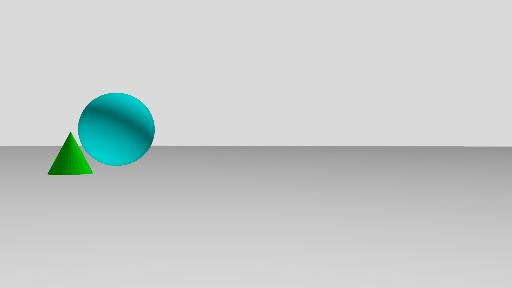green_cone: (46, 131, 94, 175)
